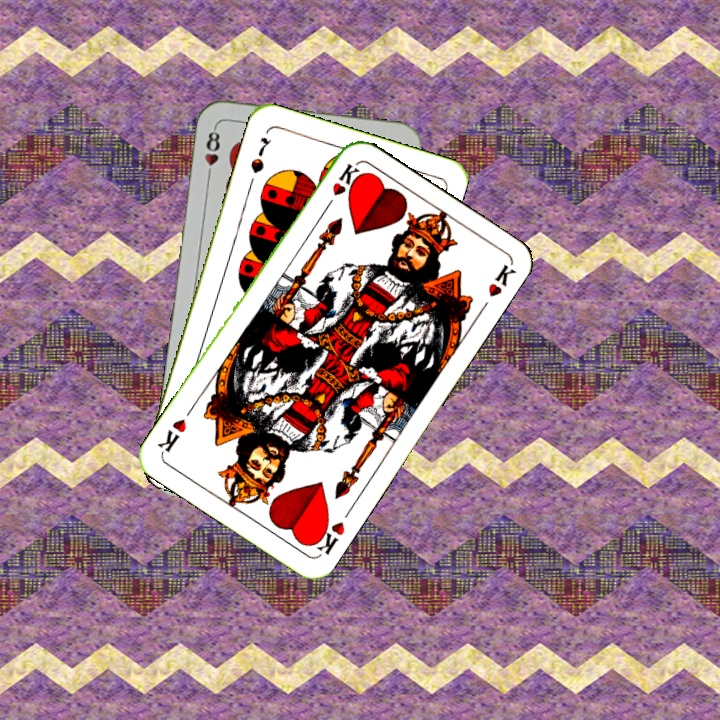H8: (200, 123, 223, 182)
HK: (320, 159, 363, 213), (307, 514, 348, 558)
S7: (246, 133, 274, 176)
